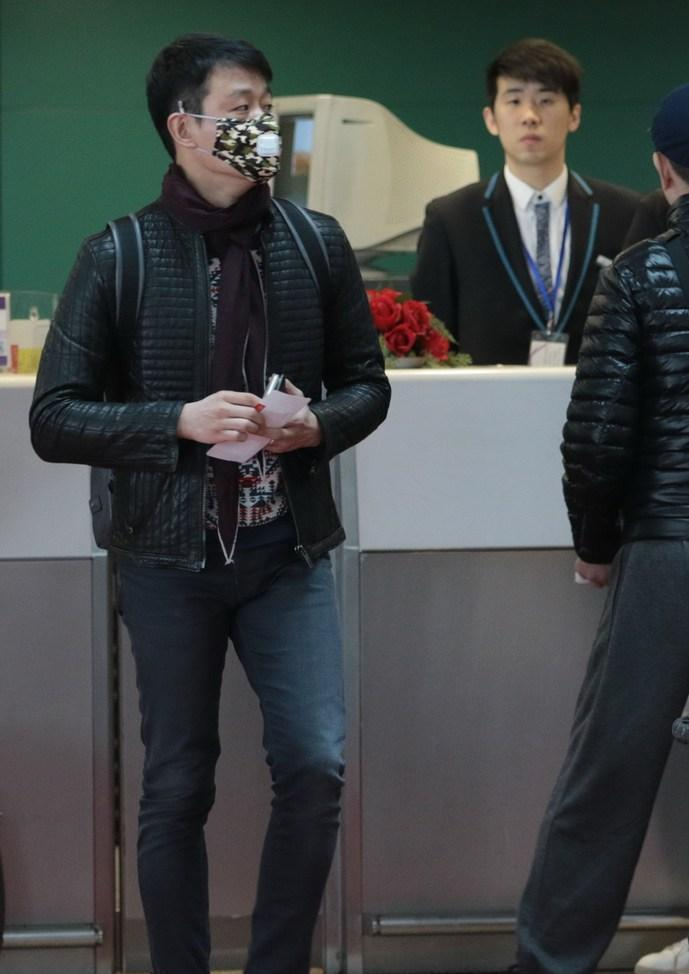NONE: (502, 86, 564, 159)
OK: (185, 81, 287, 183)
